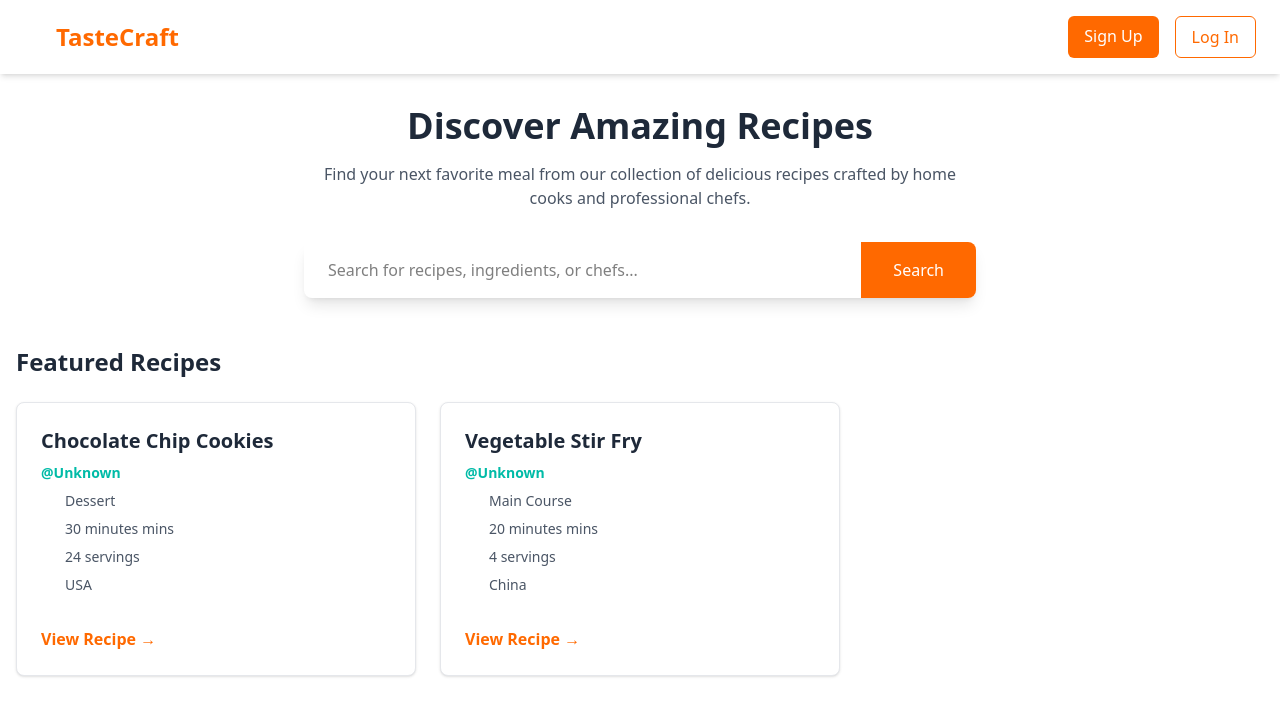
Home Component › shows clear button when search query is active
Expected: the heading "Chocolate Chip Cookies" is shown, [41, 427, 273, 454]
Expected: the button "clear" is not shown
In the field with placeholder "Search for recipes, ingredients, or chefs...": (583, 270) [304, 242, 861, 298], type "chocolate"
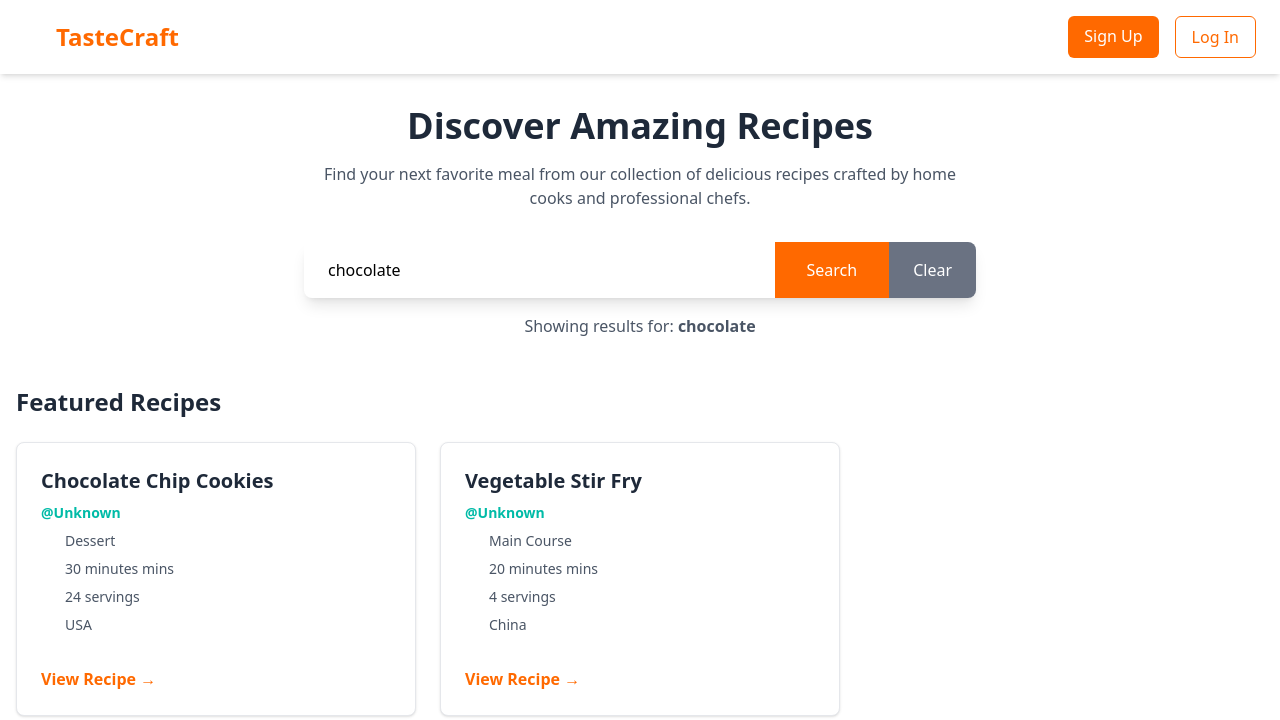
Expected: the button "Clear" is shown, [889, 242, 976, 298]
